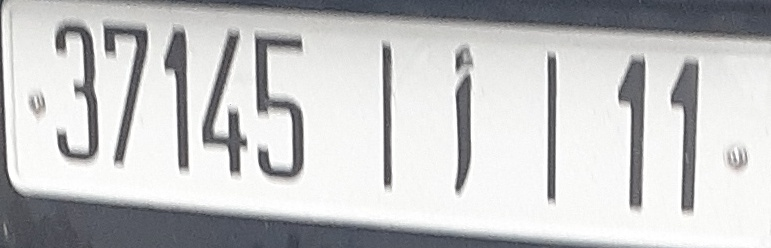1: (666, 56, 709, 214), (615, 51, 650, 218), (160, 25, 193, 175)
3: (50, 19, 98, 163)
4: (197, 27, 250, 178)
5: (251, 33, 309, 184)
7: (101, 22, 151, 167)
a: (447, 40, 478, 194)
